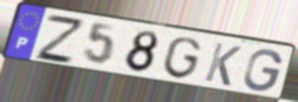5: (82, 20, 118, 70)
8: (121, 29, 159, 75)
G: (160, 36, 204, 82), (242, 48, 285, 93)
K: (202, 40, 244, 88)
Z: (33, 12, 85, 66)
